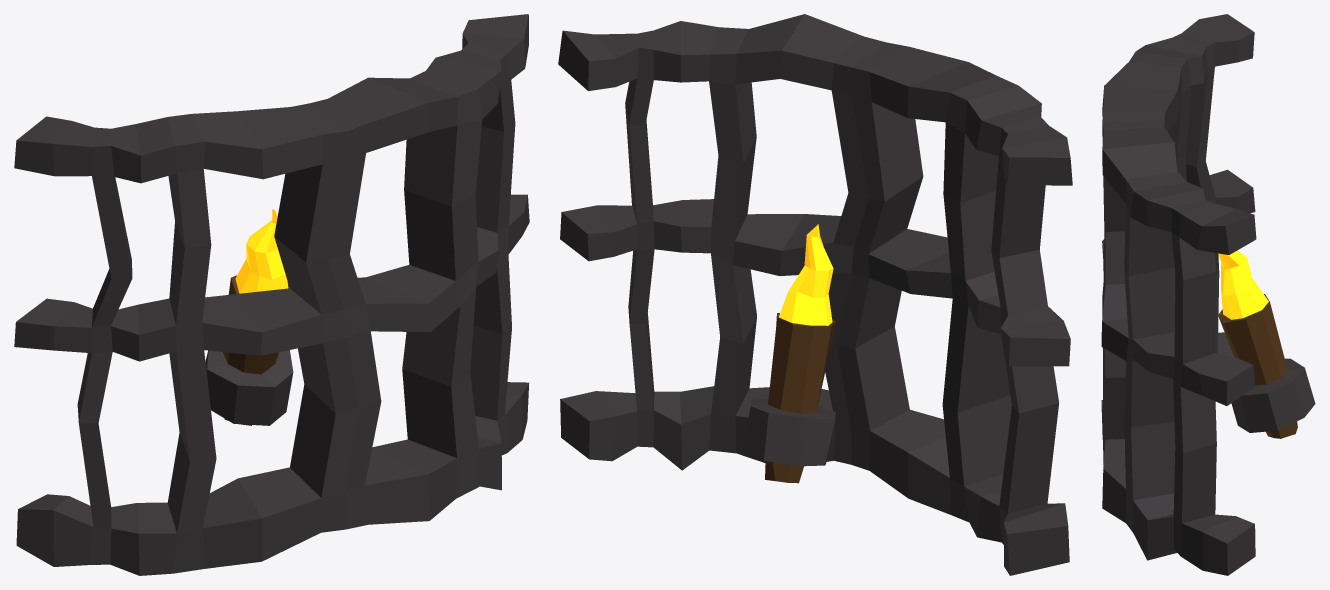
Rendered from ColloseumLight-old.fbx.
3 views of the same model, side by side, from view 1: azimuth 30°, elevation 25°; view 2: azimuth 150°, elevation 25°; view 3: azimuth 270°, elevation 25° (orthographic). The views are drawn at different scales.
Visible parts, largest first — view 1: MetalFence; view 2: MetalFence; view 3: MetalFence.
Part boxes in pixels (left/top/right/bottom): MetalFence: left=14, top=14, right=529, bottom=575; MetalFence: left=558, top=14, right=1072, bottom=575; MetalFence: left=1101, top=14, right=1315, bottom=575.
Bounding box in the file's own units: 299 × 240 × 125.
